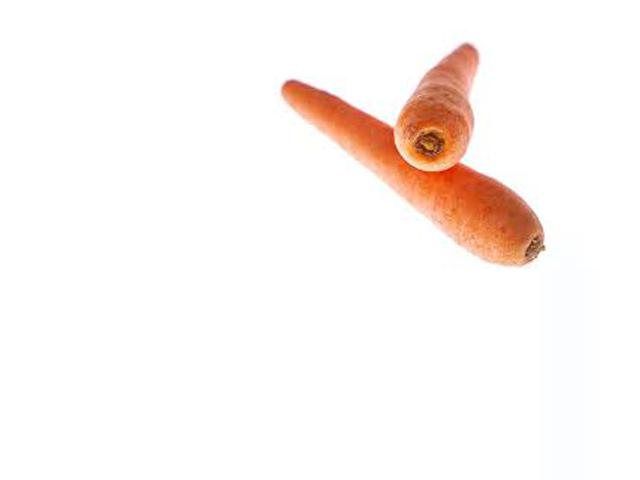carrot: (392, 36, 494, 179)
